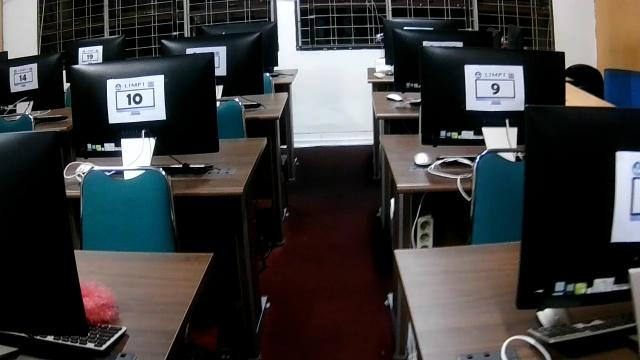AIO PC-Monitor-TV: (68, 51, 219, 160), (419, 45, 566, 145)
Meja: (61, 135, 270, 210), (375, 132, 487, 203)
